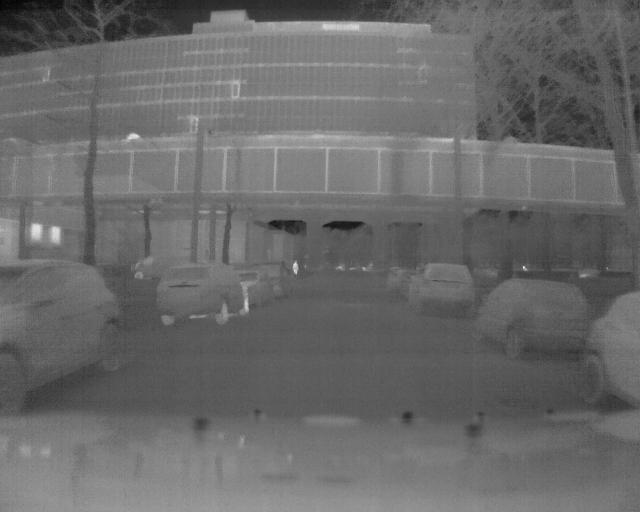car: (1, 251, 128, 415), (471, 272, 580, 366), (152, 260, 249, 331), (584, 284, 640, 404), (406, 260, 475, 320), (239, 266, 276, 308)
person: (292, 259, 301, 276)
